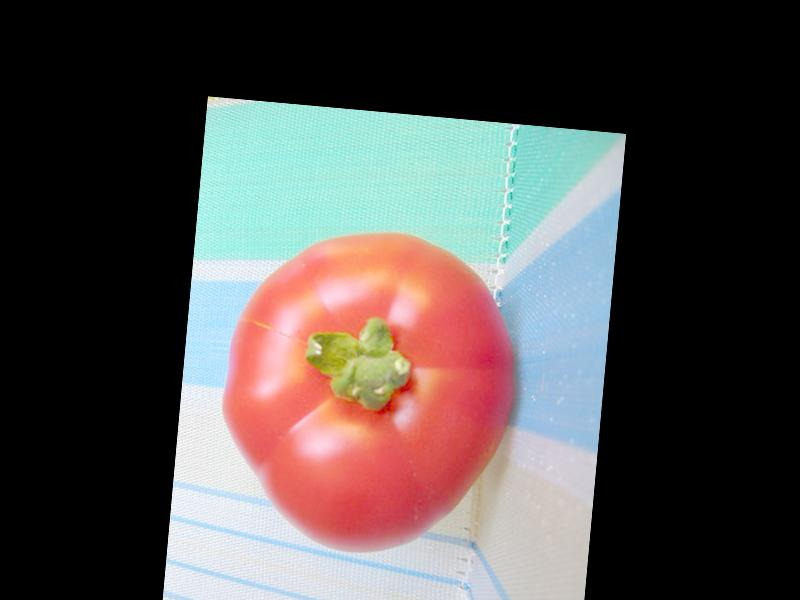Tomato: (210, 219, 528, 563)
